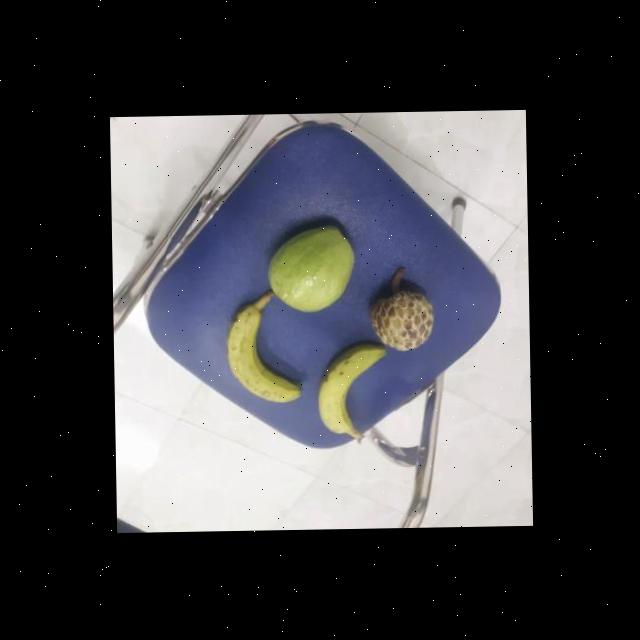Sakya fruit: (366, 275, 435, 351)
banana: (220, 300, 302, 402), (309, 340, 386, 438)
guava: (261, 220, 354, 310)
